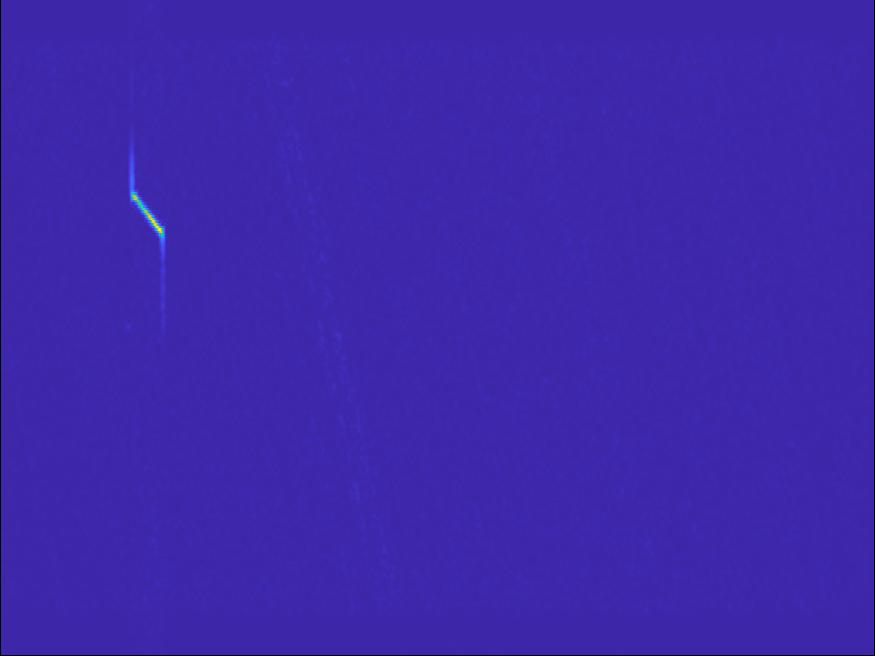Interference: (172, 291, 369, 369), (749, 304, 875, 355), (733, 487, 828, 537), (74, 4, 169, 49)
